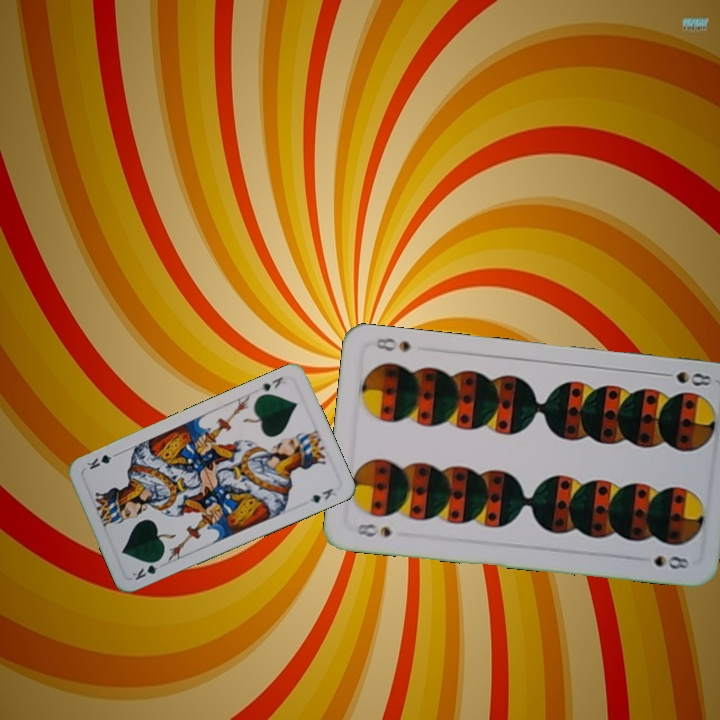GK: (128, 555, 164, 583), (256, 372, 285, 394)
S8: (655, 367, 715, 389), (351, 519, 394, 540)
